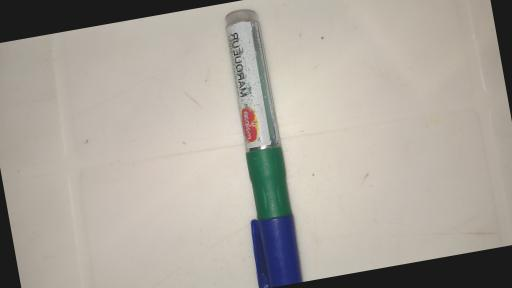Whiteboard marker: (209, 6, 305, 288)
